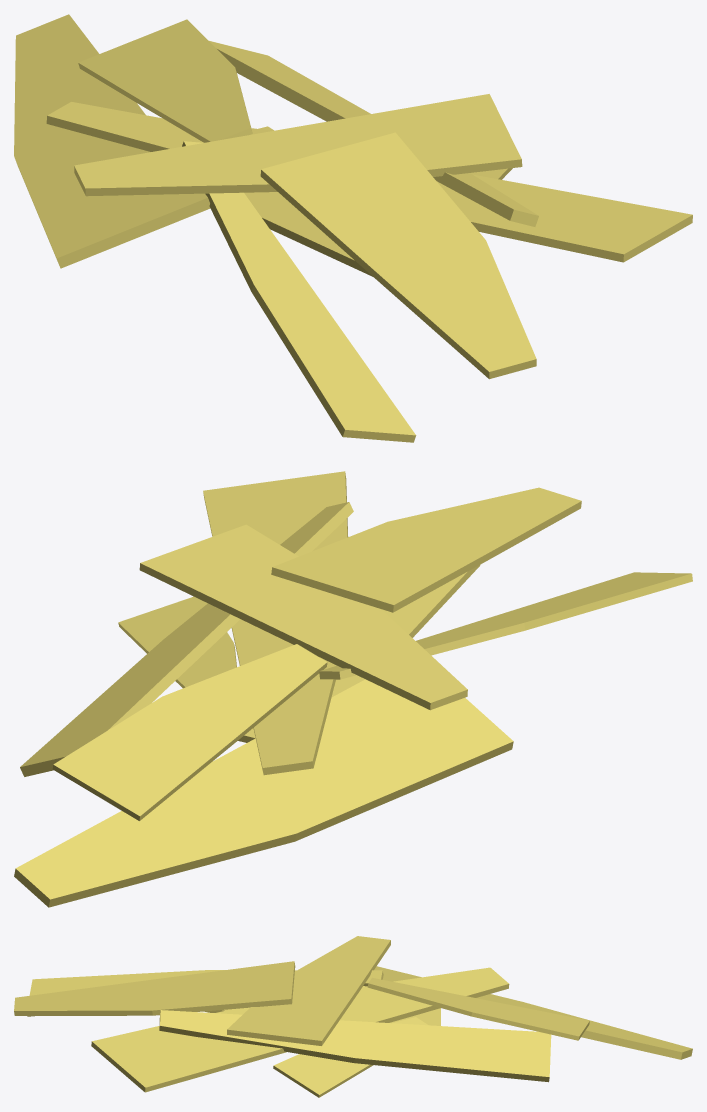
File: prakuros.glb
3 views of the same model, one above another, from view 1: azimuth 30°, elevation 25°; view 2: azimuth 150°, elevation 25°; view 3: azimuth 270°, elevation 25° (orthographic). The views are drawn at different scales.
Visible parts, largest first — view 1: Plane.007, Plane.004, Plane.005, Plane.003, Plane.001, Plane.008, Plane.006, Plane; view 2: Plane.004, Plane.005, Plane.008, Plane.007, Plane.001, Plane.006, Plane.003, Plane.002, Plane; view 3: Plane.006, Plane.001, Plane.007, Plane.005, Plane.008, Plane.004, Plane.002, Plane.003, Plane.
Boxes of the visible parts, x1,y1,x2,y2 form: Plane.007: [260, 132, 536, 379]; Plane.004: [14, 14, 210, 268]; Plane.005: [74, 94, 522, 196]; Plane.003: [182, 141, 416, 442]; Plane.001: [46, 102, 692, 262]; Plane.008: [78, 19, 252, 142]; Plane.006: [209, 41, 538, 226]; Plane: [244, 126, 372, 276]; Plane.004: [14, 679, 513, 907]; Plane.005: [139, 524, 467, 710]; Plane.008: [52, 644, 327, 820]; Plane.007: [271, 487, 581, 612]; Plane.001: [203, 471, 348, 775]; Plane.006: [20, 502, 353, 776]; Plane.003: [319, 572, 692, 679]; Plane.002: [118, 596, 236, 688]; Plane: [238, 565, 480, 742]; Plane.006: [159, 1010, 551, 1082]; Plane.001: [91, 967, 509, 1092]; Plane.007: [14, 961, 295, 1015]; Plane.005: [227, 936, 390, 1045]; Plane.008: [367, 977, 589, 1040]; Plane.004: [374, 966, 692, 1059]; Plane.002: [273, 1017, 428, 1097]; Plane.003: [27, 970, 383, 1016]; Plane: [204, 1008, 440, 1025].
Size of the model in its own units: 0.1294 by 0.031 by 0.2414.
